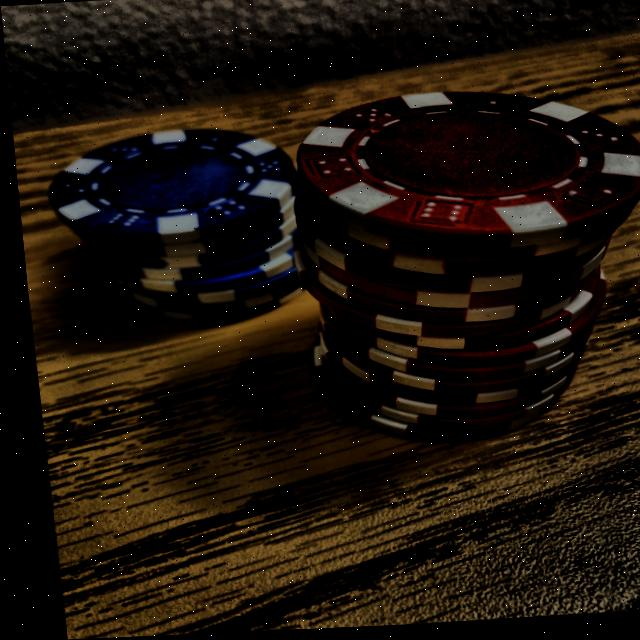Chip: (255, 77, 640, 448), (36, 104, 329, 351)
